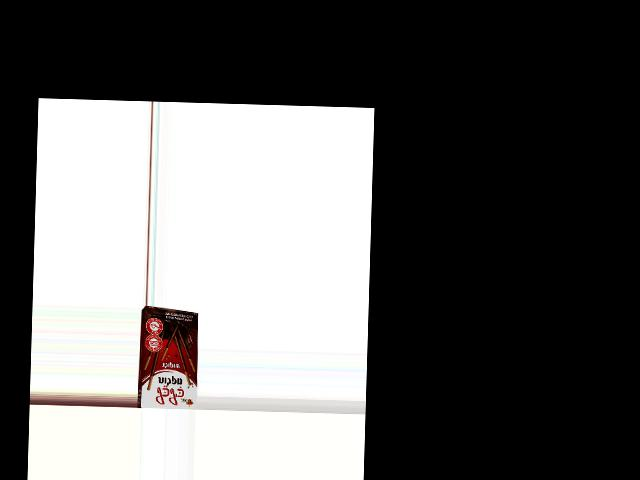chocolate: (138, 312, 200, 409)
